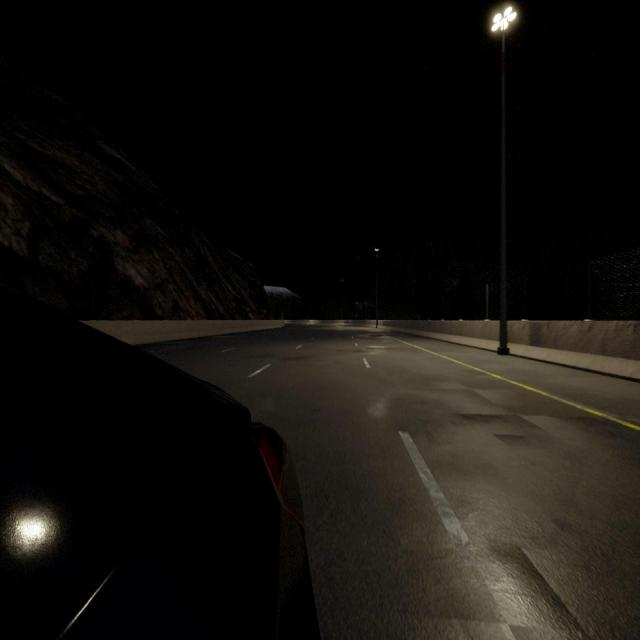Vehicle: (0, 287, 318, 639)
